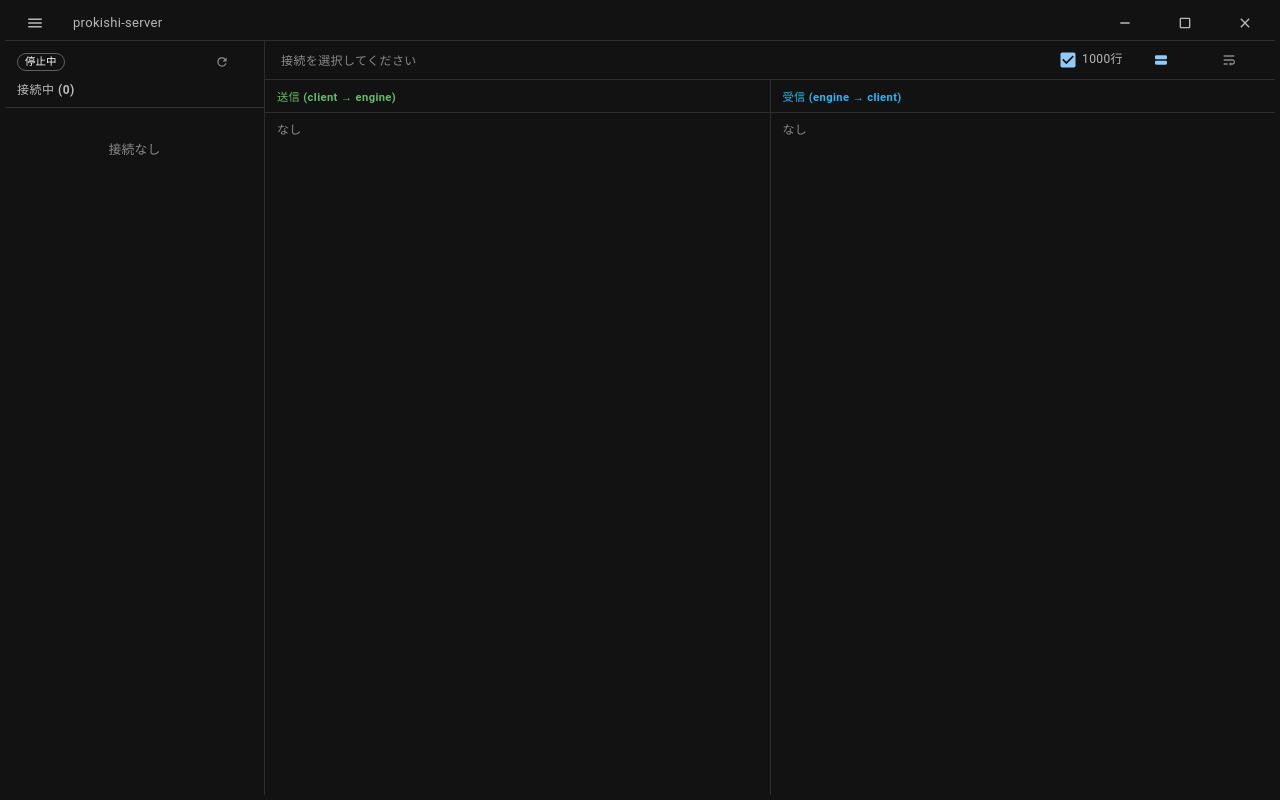
Test: App › dismisses close dialog on cancel
Click the button with test id "CloseIcon" at (1245, 23), box [1215,5,1275,41]
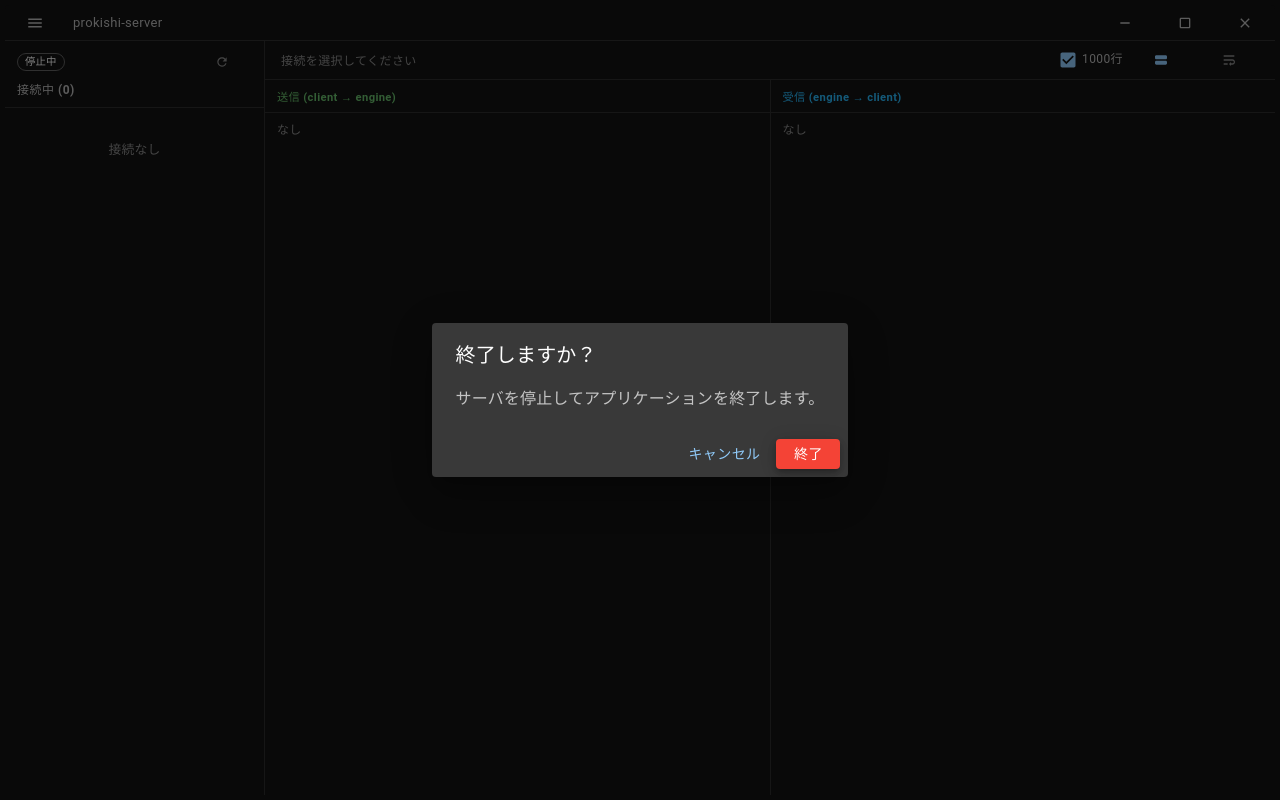
Click the button "キャンセル" at (724, 454), box [680,439,768,469]
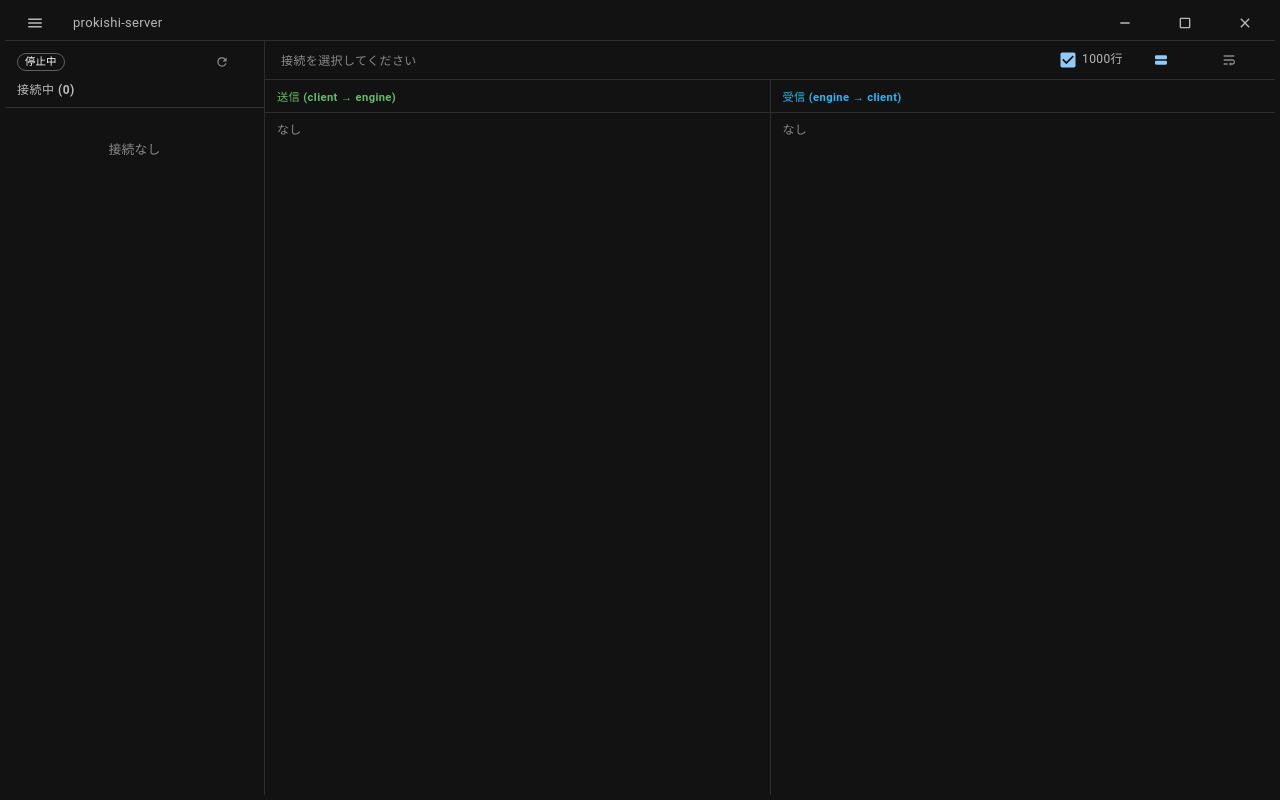
Result: the heading "終了しますか？" is gone
